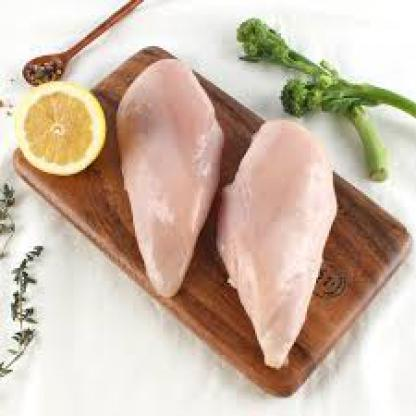chicken: (229, 117, 335, 366), (114, 61, 228, 290)
